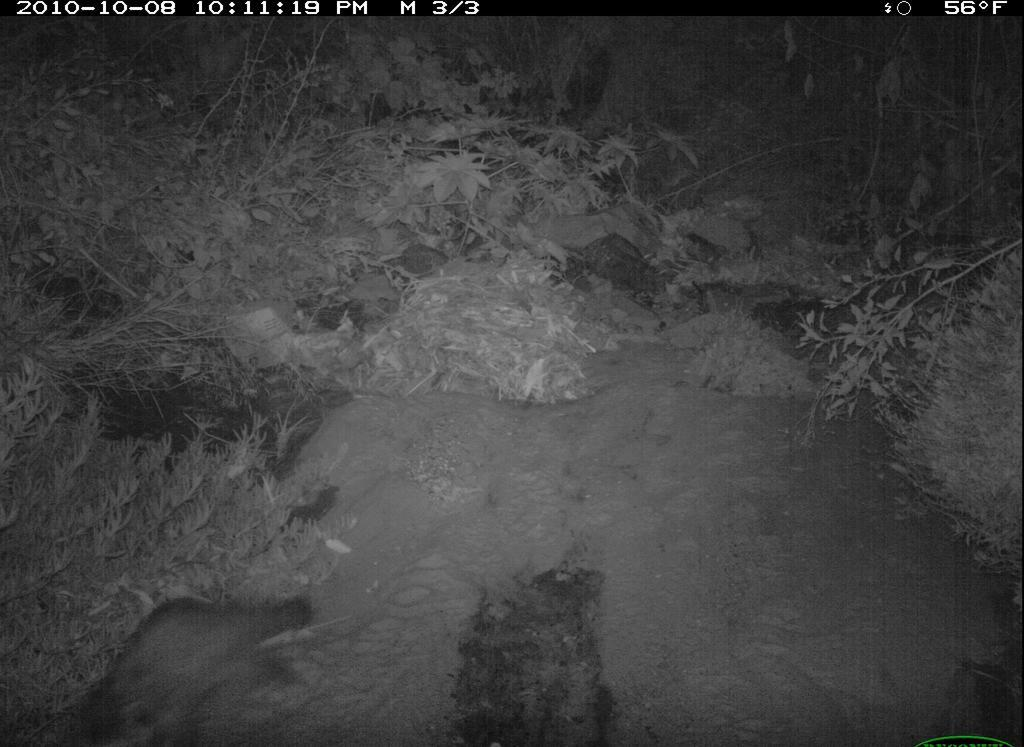raccoon: (61, 584, 328, 747)
